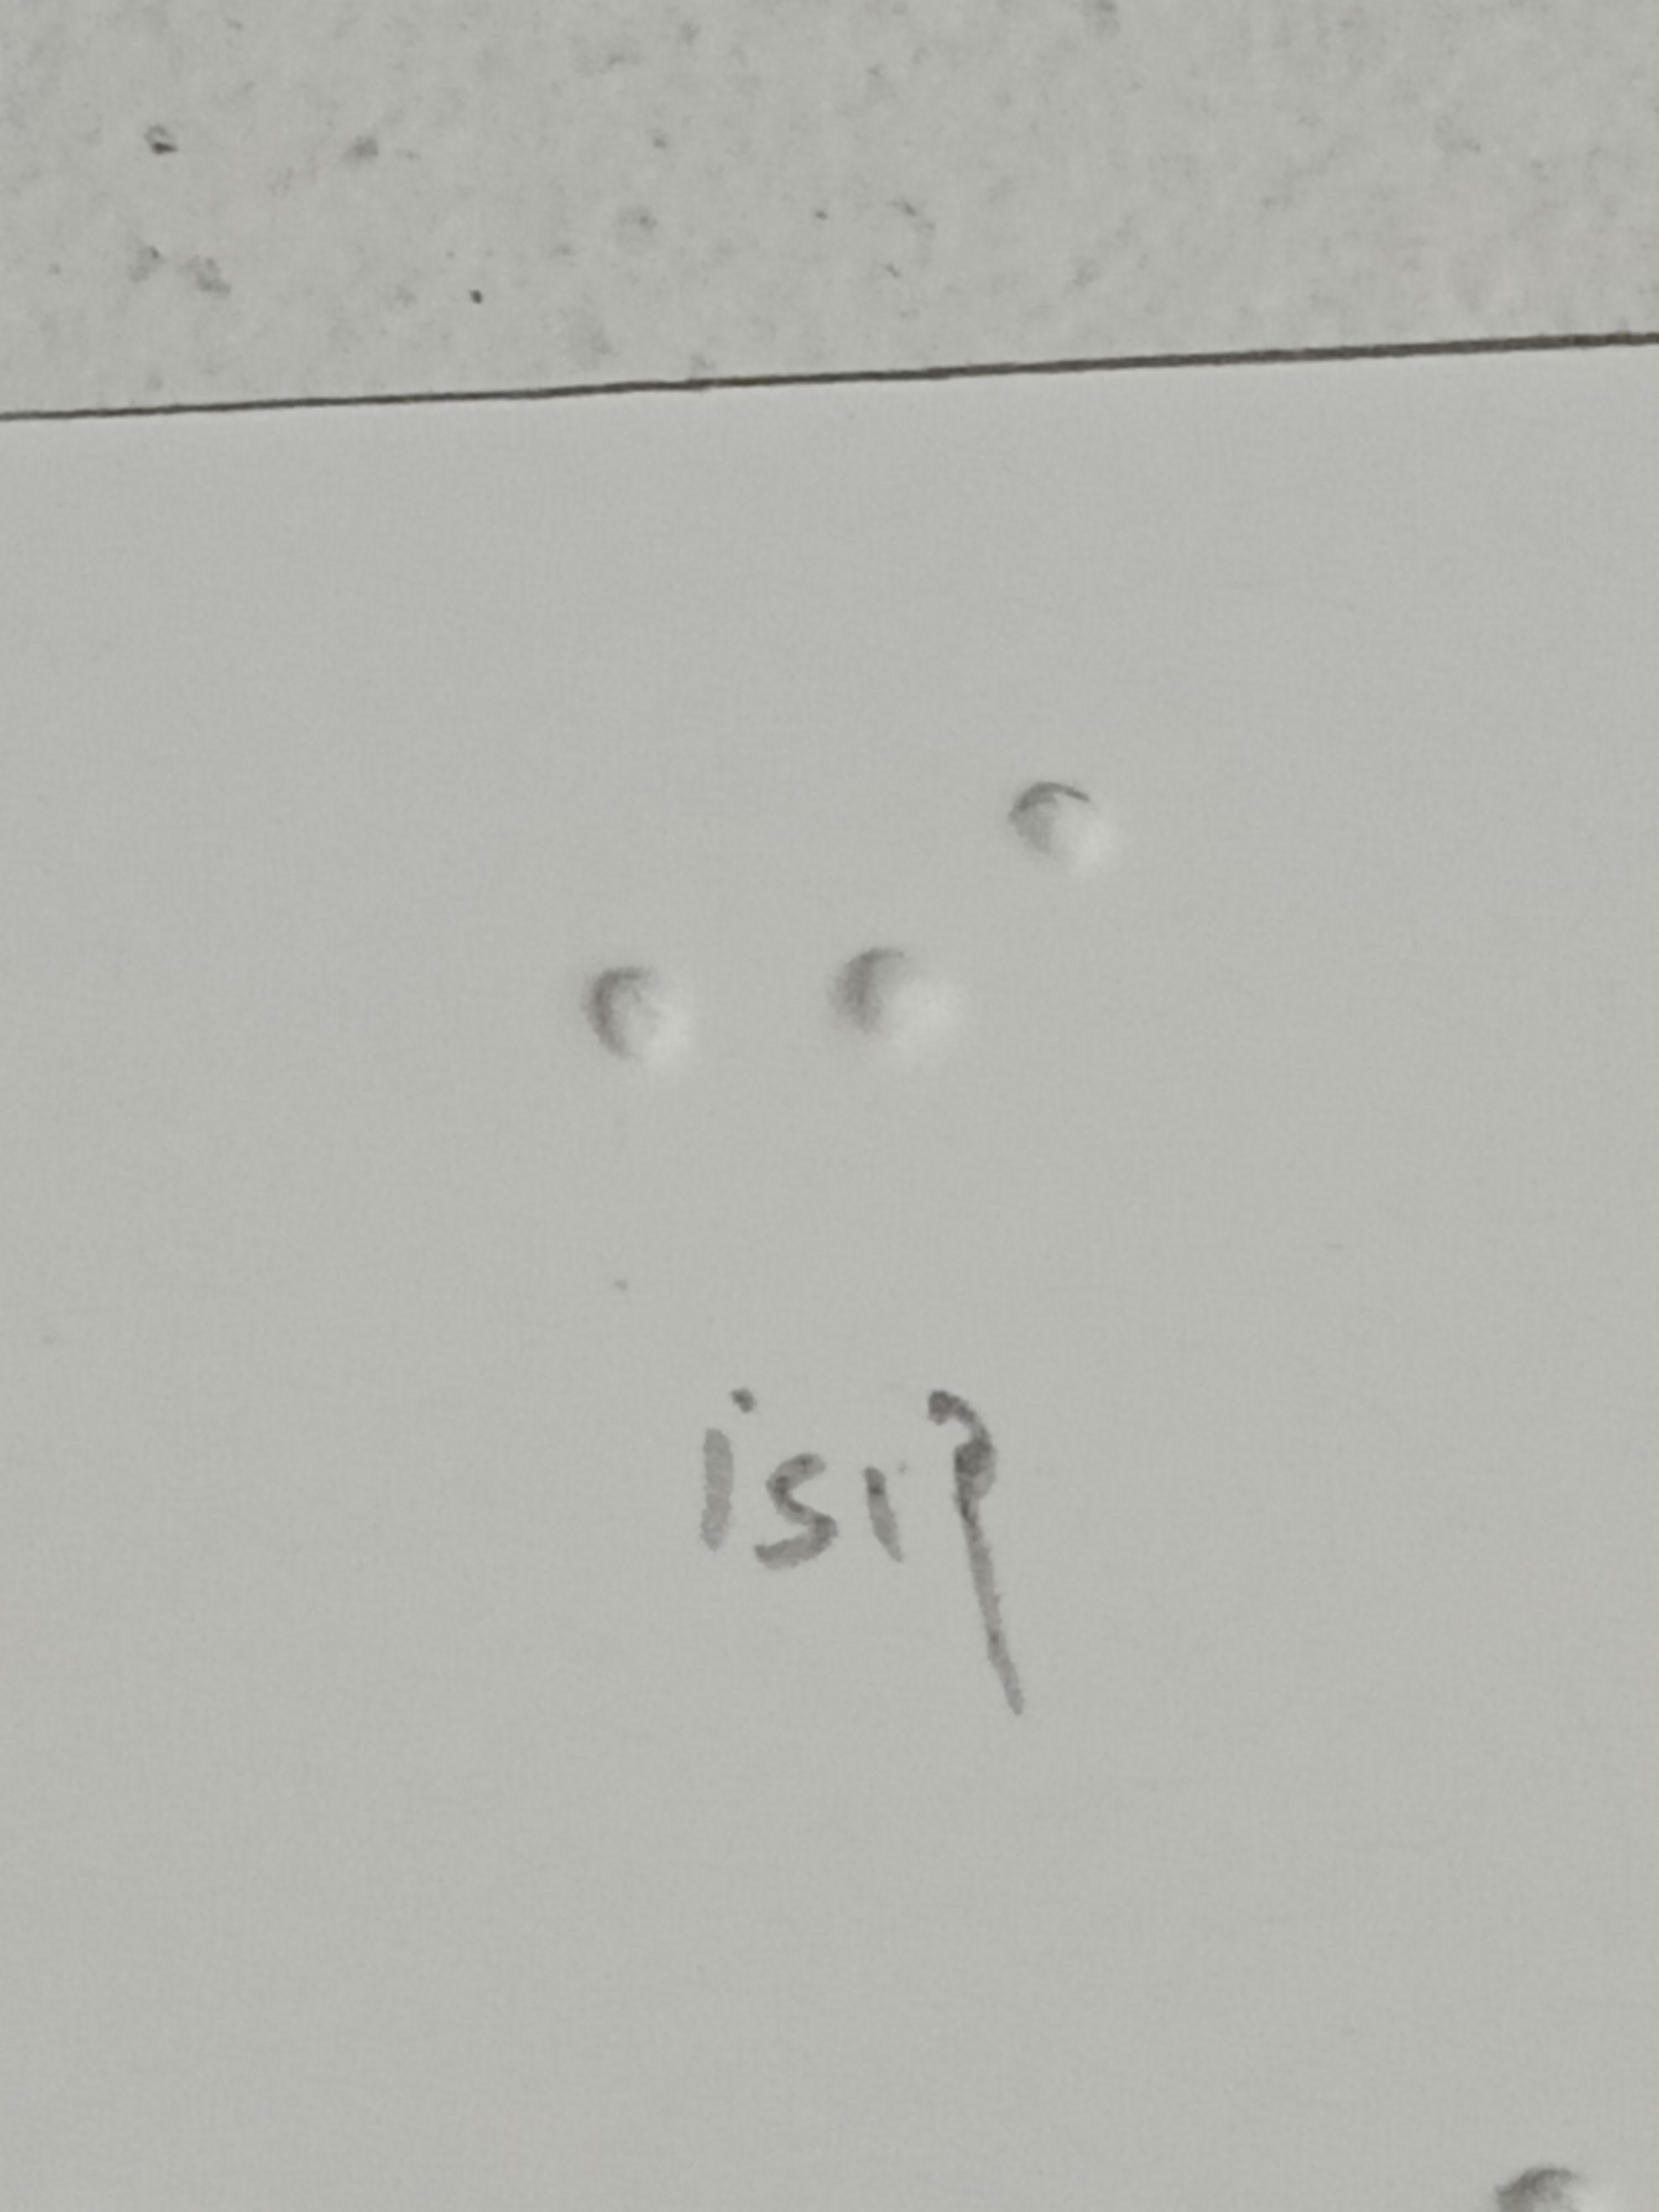dot_5: (411, 759, 690, 1233)
two_cell_alphabet_isip: (836, 759, 1115, 1233)
